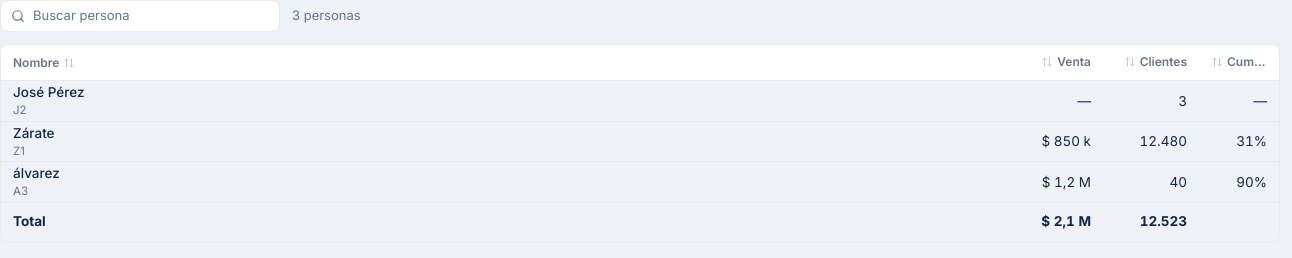
it: TablaDatos › el total suma solo las filas filtradas, con el formato de su tipo
expect the text "Total" is shown: met, box [1, 202, 991, 242]
expect the row with test id "fila-total" shows "12.523": met, box [1140, 213, 1187, 229]
Type "zarate" into the search field with placeholder "Buscar persona".
click(151, 16); type("zarate")  # box [33, 6, 269, 26]
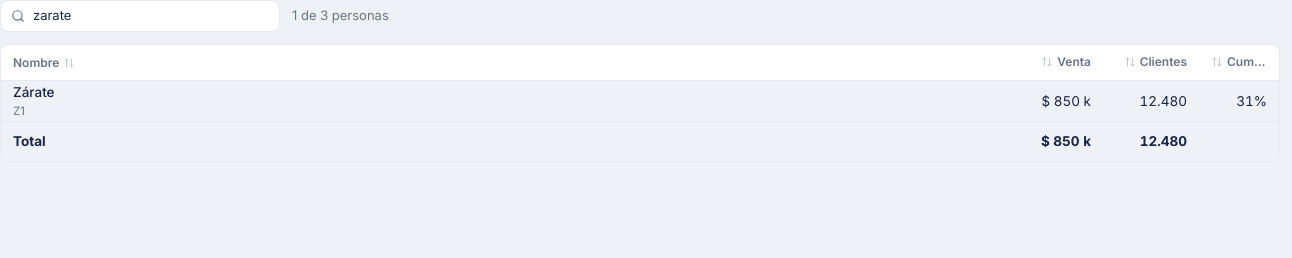
expect the row with test id "fila-total" shows "12.480": met, box [1140, 133, 1187, 149]
expect the row with test id "fila-total" shows "$ 850 k": met, box [1041, 133, 1091, 149]
